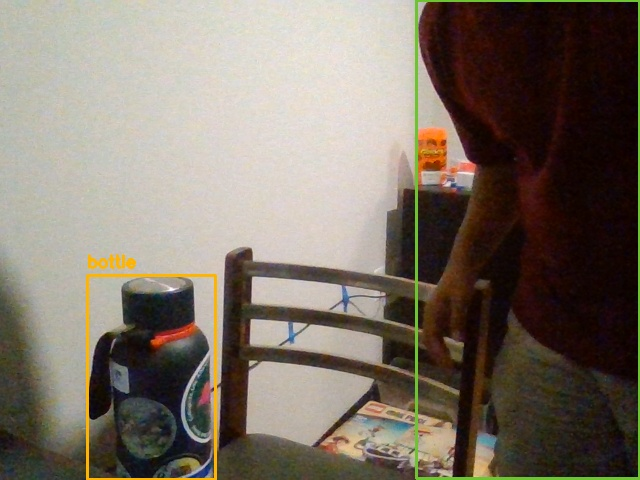bottle: (87, 275, 215, 479)
